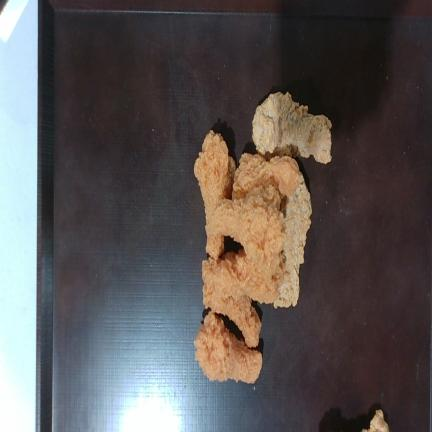chicken: (206, 197, 285, 272), (252, 92, 331, 163), (202, 258, 261, 347), (273, 173, 312, 307), (194, 311, 262, 383), (194, 130, 235, 225), (233, 154, 300, 206), (206, 236, 222, 257)
